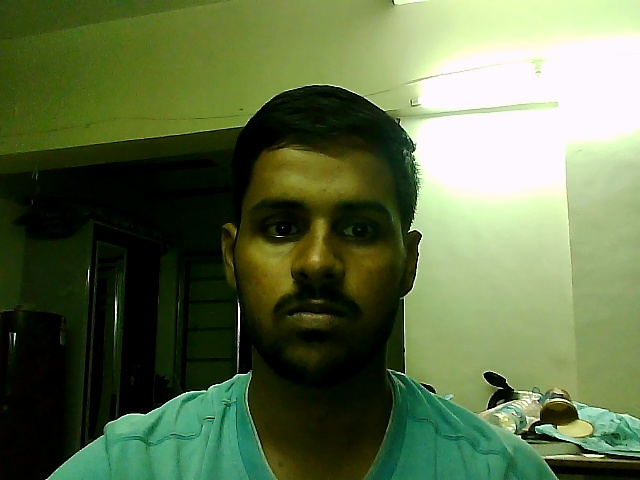awake: (177, 77, 459, 390)
